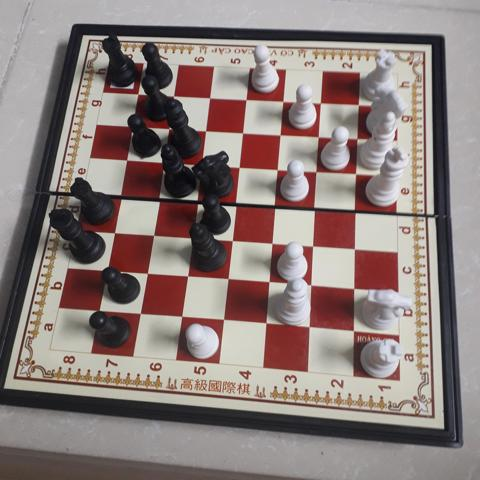xcorner: (174, 309, 189, 324), (302, 320, 317, 335), (99, 261, 114, 276), (220, 271, 235, 286), (262, 274, 277, 289), (265, 234, 280, 249), (113, 186, 128, 201), (268, 196, 283, 211), (308, 199, 323, 214), (119, 151, 134, 166), (271, 160, 286, 175), (239, 91, 254, 106), (276, 93, 291, 108), (133, 305, 147, 320), (216, 313, 231, 327), (346, 324, 360, 339), (139, 265, 154, 279), (179, 268, 194, 282), (304, 278, 319, 292), (347, 281, 361, 296), (106, 223, 121, 237), (145, 226, 160, 240), (225, 231, 239, 246), (306, 238, 321, 252), (151, 189, 166, 203), (190, 191, 204, 206), (157, 153, 171, 168), (194, 156, 209, 170), (232, 158, 247, 172), (310, 163, 325, 177), (350, 165, 364, 180), (236, 124, 251, 138), (312, 128, 326, 143), (351, 130, 365, 145), (131, 86, 146, 100), (167, 87, 181, 102), (203, 89, 217, 104), (351, 97, 366, 111), (92, 302, 106, 316), (259, 317, 273, 331), (185, 229, 199, 243), (348, 241, 362, 255), (229, 194, 243, 208), (349, 202, 363, 216), (126, 118, 140, 132), (162, 120, 176, 134), (199, 122, 213, 136), (274, 126, 288, 140), (314, 95, 328, 109)
